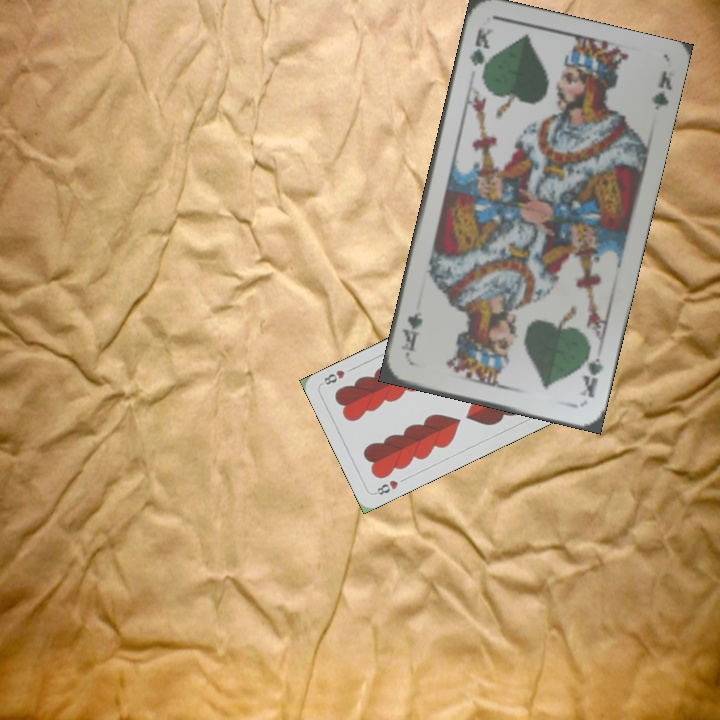GK: (465, 24, 496, 81), (575, 344, 606, 401)
H8: (370, 476, 401, 498)
